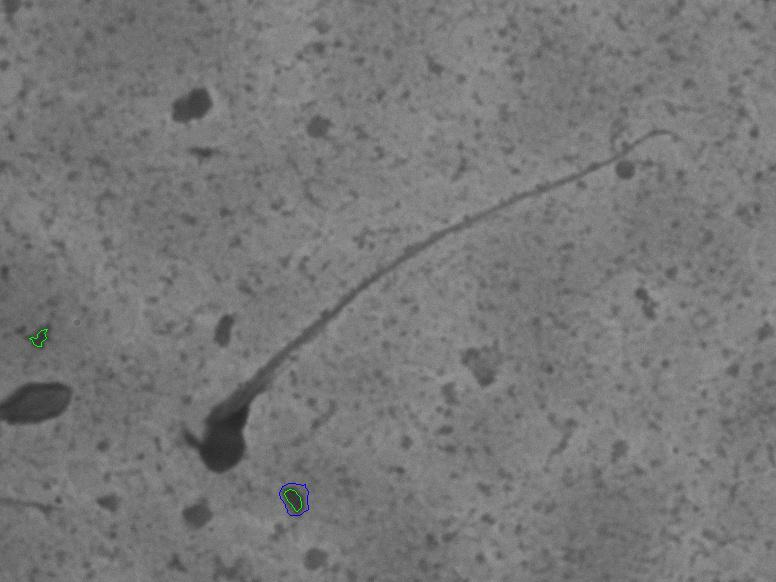Abnormal: (158, 103, 685, 522)
